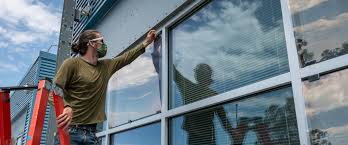Window: (164, 1, 281, 106), (167, 86, 301, 144), (295, 1, 348, 69), (108, 55, 161, 116), (301, 78, 348, 145), (109, 119, 162, 145)
